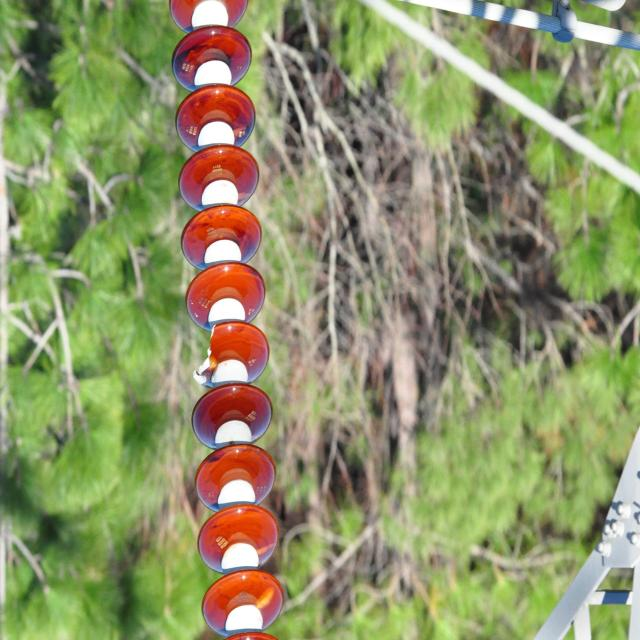broken: (194, 318, 223, 386)
insulator: (165, 0, 288, 638)
